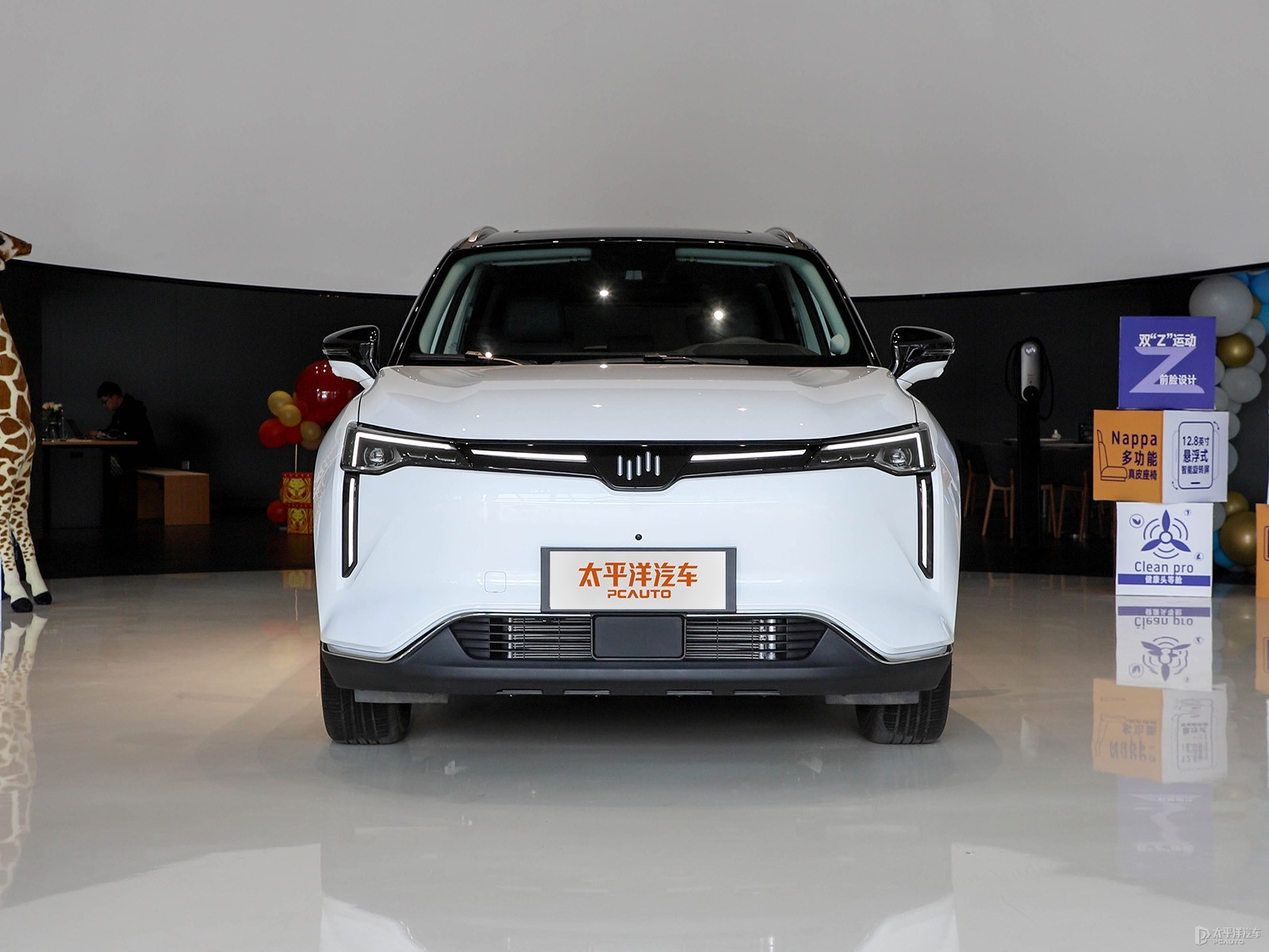WELTMEISTER: (618, 451, 660, 480)
